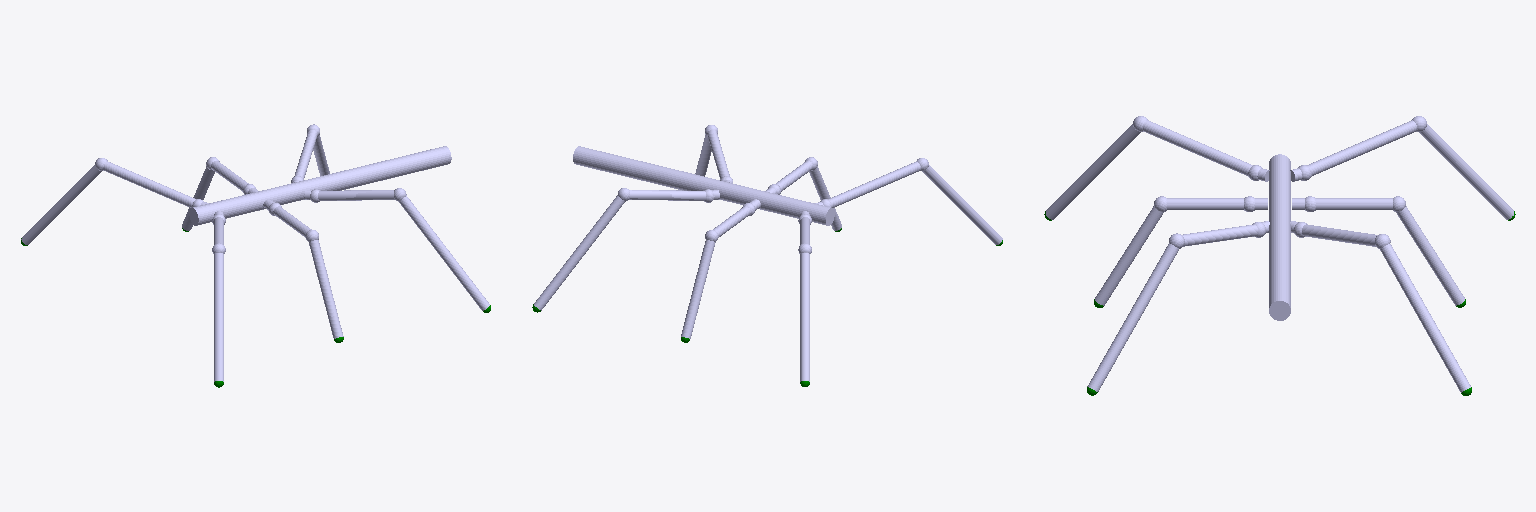
--- Render facts (derived) ---
Views: 3 orthographic renders of the robot side by side, from view 1: azimuth 30°, elevation 25°; view 2: azimuth 150°, elevation 25°; view 3: azimuth 270°, elevation 25°.
Robot: Stick_insect — 25 links, 24 joints (18 revolute, 6 fixed); root link robot_base; default pose: every joint at zero.
Links seen in each view (by area): view 1: robot_base, TIBIA_L2, TIBIA_L0, FEMUR_R0, TIBIA_R0, TIBIA_L1, FEMUR_L2, FEMUR_R2, FEMUR_L1; view 2: robot_base, TIBIA_R2, TIBIA_R0, FEMUR_L0, TIBIA_L0, TIBIA_R1, FEMUR_R2, FEMUR_L2, FEMUR_R1; view 3: robot_base, TIBIA_L2, TIBIA_R2, FEMUR_R0, FEMUR_L0, TIBIA_L0, TIBIA_R0, TIBIA_R1, TIBIA_L1, FEMUR_R1, FEMUR_L1, FEMUR_L2 (+1 smaller).
Link boxes in pixels (x1,y1,x2,y2): robot_base: (189,146,451,225); TIBIA_L2: (399,195,489,310); TIBIA_L0: (214,253,223,381); FEMUR_R0: (95,158,195,207); TIBIA_R0: (21,165,101,244); TIBIA_L1: (309,240,343,338); FEMUR_L2: (318,188,406,201); FEMUR_R2: (294,124,319,178); FEMUR_L1: (273,206,318,241); robot_base: (573,146,834,225); TIBIA_R2: (534,195,625,310); TIBIA_R0: (800,253,809,381); FEMUR_L0: (828,158,928,207); TIBIA_L0: (922,165,1002,244); TIBIA_R1: (681,240,715,338); FEMUR_R2: (618,188,705,200); FEMUR_L2: (705,125,729,179); FEMUR_R1: (705,206,750,241); robot_base: (1269,154,1290,320); TIBIA_L2: (1087,243,1178,391); TIBIA_R2: (1380,244,1470,392); FEMUR_R0: (1307,116,1426,176); FEMUR_L0: (1133,116,1252,176); TIBIA_L0: (1046,124,1140,219); TIBIA_R0: (1419,124,1513,219); TIBIA_R1: (1396,206,1464,305); TIBIA_L1: (1095,206,1163,305); FEMUR_R1: (1316,196,1405,211); FEMUR_L1: (1154,196,1243,211); FEMUR_L2: (1169,224,1257,248).
Size in the robot's own frame: 0.5549 by 0.5797 by 0.1841 metres.
Geometry: primitives only (box / cylinder / sphere), no mesh files.

The robot description file, URDF, robot "Stick_insect":
<?xml version="1.0"?>
<robot name="Stick_insect">
    <link name="robot_base">
        <inertial>
            <origin rpy="-1.570796 3.141593 1.570796" xyz="0.000000 0.000000 0.225002" />
            <inertia ixx="1.8013999782172e-06" ixy="0.0" ixz="0.0" iyz="0.0" izz="1.5440571241862e-06" iyy="1.8013999782172e-06" />
            <mass value="0.016333827429407" />
        </inertial>
        <collision name="Stick_insect">
            <origin xyz="0.000000 0.000000 0.225002" rpy="-1.570796 3.141593 1.570796" />
            <geometry>
                <cylinder radius="0.01375" length="0.4265" />
            </geometry>
        </collision>
        <visual name="Stick_insect">
            <origin xyz="0.000000 0.000000 0.225002" rpy="-1.570796 3.141593 1.570796" />
            <geometry>
                <cylinder radius="0.01375" length="0.4265" />
            </geometry>
            <material name="robot_base_material">
                <color rgba="0.850000 0.850000 1.000000 1.0" />
            </material>
        </visual>
    </link>
    <joint name="TR0" type="revolute">
        <axis xyz="0 0 1" />
        <limit lower="-1.7453292608261" upper="0.69813168048859" effort="6000000000.0" velocity="8.7266464233398" />
        <parent link="robot_base" />
        <child link="COXA_R0" />
        <origin xyz="-0.179750 0.014997 0.225000" rpy="-3.141592 3.141593 -0.000000" />
    </joint>
    <link name="COXA_R0">
        <inertial>
            <origin rpy="-1.570774 3.141592 -2.617994" xyz="0.004237 -0.007339 -0.000000" />
            <inertia ixx="0.001279999986738" ixy="0.0" ixz="0.0" iyz="0.0" izz="0.00063999999336898" iyy="0.001279999986738" />
            <mass value="0.10000000149012" />
        </inertial>
        <collision name="COXA_R0">
            <origin xyz="0.004237 -0.007339 -0.000000" rpy="-1.570774 3.141592 -2.617994" />
            <geometry>
                <cylinder radius="0.0075000002980232" length="0.016950000077486" />
            </geometry>
        </collision>
        <visual name="COXA_R0">
            <origin xyz="0.004237 -0.007339 -0.000000" rpy="-1.570774 3.141592 -2.617994" />
            <geometry>
                <cylinder radius="0.0075000002980232" length="0.016950000077486" />
            </geometry>
            <material name="COXA_R0_material">
                <color rgba="0.850000 0.850000 1.000000 1.0" />
            </material>
        </visual>
        <visual name="CR0_BALL">
            <origin xyz="0.008475 -0.014679 -0.000001" rpy="-3.137573 3.034904 -3.137764" />
            <geometry>
                <sphere radius="0.010000000707805" />
            </geometry>
            <material name="CR0_BALL_material">
                <color rgba="0.850000 0.850000 1.000000 1.0" />
            </material>
        </visual>
    </link>
    <joint name="CR0" type="revolute">
        <axis xyz="0 0 1" />
        <limit lower="-1.3962633907795" upper="1.0471975505352" effort="-6000000000.0" velocity="8.7266464233398" />
        <parent link="COXA_R0" />
        <child link="FEMUR_R0" />
        <origin xyz="0.008475 -0.014679 -0.000001" rpy="1.311125 4.712385 -0.787527" />
    </joint>
    <link name="FEMUR_R0">
        <inertial>
            <origin rpy="-1.745329 1.570796 0.000000" xyz="0.014378 -0.081542 -0.000001" />
            <inertia ixx="0.0037452799804595" ixy="0.0" ixz="0.0" iyz="0.0" izz="0.0018726399902298" iyy="0.0037452799804595" />
            <mass value="0.2926000058651" />
        </inertial>
        <collision name="FEMUR_R0">
            <origin xyz="0.014378 -0.081542 -0.000001" rpy="-1.745329 1.570796 0.000000" />
            <geometry>
                <cylinder radius="0.0075000002980232" length="0.16560000181198" />
            </geometry>
        </collision>
        <visual name="FEMUR_R0">
            <origin xyz="0.014378 -0.081542 -0.000001" rpy="-1.745329 1.570796 0.000000" />
            <geometry>
                <cylinder radius="0.0075000002980232" length="0.16560000181198" />
            </geometry>
            <material name="FEMUR_R0_material">
                <color rgba="0.850000 0.850000 1.000000 1.0" />
            </material>
        </visual>
        <visual name="FR0_BALL">
            <origin xyz="0.028756 -0.163084 -0.000000" rpy="1.390836 2.100417 1.271230" />
            <geometry>
                <sphere radius="0.010000000707805" />
            </geometry>
            <material name="FR0_BALL_material">
                <color rgba="0.850000 0.850000 1.000000 1.0" />
            </material>
        </visual>
    </link>
    <joint name="FR0" type="revolute">
        <axis xyz="0 0 1" />
        <limit lower="-1.2217301130295" upper="0.69813203811646" effort="-6000000000.0" velocity="8.7266464233398" />
        <parent link="FEMUR_R0" />
        <child link="TIBIA_R0" />
        <origin xyz="0.028756 -0.163084 -0.000001" rpy="-3.141593 3.141592 -2.967061" />
    </joint>
    <link name="TIBIA_R0">
        <inertial>
            <origin rpy="-0.523646 1.570796 0.000000" xyz="-0.086705 -0.050063 0.000001" />
            <inertia ixx="0.0045299197006281" ixy="0.0" ixz="0.0" iyz="0.0" izz="0.002264959850314" iyy="0.0045299197006281" />
            <mass value="0.35389998555183" />
        </inertial>
        <collision name="TIBIA_R0">
            <origin xyz="-0.086705 -0.050063 0.000001" rpy="-0.523646 1.570796 0.000000" />
            <geometry>
                <cylinder radius="0.0075000002980232" length="0.20024999976158" />
            </geometry>
        </collision>
        <visual name="TIBIA_R0">
            <origin xyz="-0.086705 -0.050063 0.000001" rpy="-0.523646 1.570796 0.000000" />
            <geometry>
                <cylinder radius="0.0075000002980232" length="0.20024999976158" />
            </geometry>
            <material name="TIBIA_R0_material">
                <color rgba="0.850000 0.850000 1.000000 1.0" />
            </material>
        </visual>
    </link>
    <joint name="R0_fs" type="fixed">
        <axis xyz="0 0 1" />
        <parent link="TIBIA_R0" />
        <child link="FOOT_R0" />
        <origin xyz="-0.173409 -0.100127 0.000001" rpy="2.617947 1.570796 0.000000" />
    </joint>
    <link name="FOOT_R0">
        <inertial>
            <origin rpy="-0.784453 3.219649 0.072881" xyz="0.000000 0.000000 0.000000" />
            <inertia ixx="0.00036000003456138" ixy="0.0" ixz="0.0" iyz="0.0" izz="0.00036000003456138" iyy="0.00036000003456138" />
            <mass value="1.0" />
        </inertial>
        <collision name="FOOT_R0">
            <origin xyz="0.000000 0.000000 0.000000" rpy="-0.784453 3.219649 0.072881" />
            <geometry>
                <sphere radius="0.0075000002980232" />
            </geometry>
        </collision>
        <visual name="FOOT_R0">
            <origin xyz="0.000000 0.000000 0.000000" rpy="-0.784453 3.219649 0.072881" />
            <geometry>
                <sphere radius="0.0075000002980232" />
            </geometry>
            <material name="FOOT_R0_material">
                <color rgba="0.000000 0.570000 0.000000 1.0" />
            </material>
        </visual>
    </link>
    <joint name="TL0" type="revolute">
        <axis xyz="0 0 1" />
        <limit lower="-1.7453292608261" upper="0.69813168048859" effort="6000000000.0" velocity="8.7266464233398" />
        <parent link="robot_base" />
        <child link="COXA_L0" />
        <origin xyz="-0.179750 -0.015004 0.225000" rpy="0.000000 3.141938 -0.000000" />
    </joint>
    <link name="COXA_L0">
        <inertial>
            <origin rpy="-1.570796 3.141593 0.523599" xyz="0.004238 -0.007340 0.000000" />
            <inertia ixx="0.001279999986738" ixy="0.0" ixz="0.0" iyz="0.0" izz="0.00063999999336898" iyy="0.001279999986738" />
            <mass value="0.10000000149012" />
        </inertial>
        <collision name="COXA_L0">
            <origin xyz="0.004238 -0.007340 0.000000" rpy="-1.570796 3.141593 0.523599" />
            <geometry>
                <cylinder radius="0.0075000002980232" length="0.016950000077486" />
            </geometry>
        </collision>
        <visual name="COXA_L0">
            <origin xyz="0.004238 -0.007340 0.000000" rpy="-1.570796 3.141593 0.523599" />
            <geometry>
                <cylinder radius="0.0075000002980232" length="0.016950000077486" />
            </geometry>
            <material name="COXA_L0_material">
                <color rgba="0.850000 0.850000 1.000000 1.0" />
            </material>
        </visual>
        <visual name="CL0_BALL">
            <origin xyz="0.008475 -0.014680 0.000000" rpy="0.003719 3.161360 3.137786" />
            <geometry>
                <sphere radius="0.010000000707805" />
            </geometry>
            <material name="CL0_BALL_material">
                <color rgba="0.850000 0.850000 1.000000 1.0" />
            </material>
        </visual>
    </link>
    <joint name="CL0" type="revolute">
        <axis xyz="0 0 1" />
        <limit lower="-1.3962633907795" upper="1.0471975505352" effort="-6000000000.0" velocity="8.7266464233398" />
        <parent link="COXA_L0" />
        <child link="FEMUR_L0" />
        <origin xyz="0.008475 -0.014680 0.000000" rpy="1.518465 4.712363 2.146726" />
    </joint>
    <link name="FEMUR_L0">
        <inertial>
            <origin rpy="-1.745329 1.570796 0.000000" xyz="-0.014378 0.081542 -0.000000" />
            <inertia ixx="0.0037452799804595" ixy="0.0" ixz="0.0" iyz="0.0" izz="0.0018726399902298" iyy="0.0037452799804595" />
            <mass value="0.2926000058651" />
        </inertial>
        <collision name="FEMUR_L0">
            <origin xyz="-0.014378 0.081542 -0.000000" rpy="-1.745329 1.570796 0.000000" />
            <geometry>
                <cylinder radius="0.0075000002980232" length="0.16560000181198" />
            </geometry>
        </collision>
        <visual name="FEMUR_L0">
            <origin xyz="-0.014378 0.081542 -0.000000" rpy="-1.745329 1.570796 0.000000" />
            <geometry>
                <cylinder radius="0.0075000002980232" length="0.16560000181198" />
            </geometry>
            <material name="FEMUR_L0_material">
                <color rgba="0.850000 0.850000 1.000000 1.0" />
            </material>
        </visual>
        <visual name="FL0_BALL">
            <origin xyz="-0.028761 0.163088 -0.000004" rpy="1.700014 4.003731 -2.084202" />
            <geometry>
                <sphere radius="0.010000000707805" />
            </geometry>
            <material name="FL0_BALL_material">
                <color rgba="0.850000 0.850000 1.000000 1.0" />
            </material>
        </visual>
    </link>
    <joint name="FL0" type="revolute">
        <axis xyz="0 0 1" />
        <limit lower="-1.2217305898666" upper="0.6981315612793" effort="-6000000000.0" velocity="8.7266464233398" />
        <parent link="FEMUR_L0" />
        <child link="TIBIA_L0" />
        <origin xyz="-0.028756 0.163084 -0.000000" rpy="3.141592 3.141594 -2.967061" />
    </joint>
    <link name="TIBIA_L0">
        <inertial>
            <origin rpy="-0.523604 1.570796 0.000000" xyz="0.086712 0.050061 0.000001" />
            <inertia ixx="0.0045299197006281" ixy="0.0" ixz="0.0" iyz="0.0" izz="0.002264959850314" iyy="0.0045299197006281" />
            <mass value="0.35389998555183" />
        </inertial>
        <collision name="TIBIA_L0">
            <origin xyz="0.086712 0.050061 0.000001" rpy="-0.523604 1.570796 0.000000" />
            <geometry>
                <cylinder radius="0.0075000002980232" length="0.20024999976158" />
            </geometry>
        </collision>
        <visual name="TIBIA_L0">
            <origin xyz="0.086712 0.050061 0.000001" rpy="-0.523604 1.570796 0.000000" />
            <geometry>
                <cylinder radius="0.0075000002980232" length="0.20024999976158" />
            </geometry>
            <material name="TIBIA_L0_material">
                <color rgba="0.850000 0.850000 1.000000 1.0" />
            </material>
        </visual>
    </link>
    <joint name="L0_fs" type="fixed">
        <axis xyz="0 0 1" />
        <parent link="TIBIA_L0" />
        <child link="FOOT_L0" />
        <origin xyz="0.173418 0.100121 0.000001" rpy="-0.523604 1.570796 0.000000" />
    </joint>
    <link name="FOOT_L0">
        <inertial>
            <origin rpy="3.141593 3.141593 -3.141593" xyz="0.000000 0.000000 0.000000" />
            <inertia ixx="0.0014400001382455" ixy="0.0" ixz="0.0" iyz="0.0" izz="0.0014400001382455" iyy="0.0014400001382455" />
            <mass value="1.0" />
        </inertial>
        <collision name="FOOT_L0">
            <origin xyz="0.000000 0.000000 0.000000" rpy="3.141593 3.141593 -3.141593" />
            <geometry>
                <sphere radius="0.0075000002980232" />
            </geometry>
        </collision>
        <visual name="FOOT_L0">
            <origin xyz="0.000000 0.000000 0.000000" rpy="3.141593 3.141593 -3.141593" />
            <geometry>
                <sphere radius="0.0075000002980232" />
            </geometry>
            <material name="FOOT_L0_material">
                <color rgba="0.000000 0.570000 0.000000 1.0" />
            </material>
        </visual>
    </link>
    <joint name="TR1" type="revolute">
        <axis xyz="0 0 1" />
        <limit lower="-1.2217304706573" upper="1.2217304706573" effort="6000000000.0" velocity="8.7266464233398" />
        <parent link="robot_base" />
        <child link="COXA_R1" />
        <origin xyz="-0.097250 0.014998 0.225000" rpy="-3.141592 3.141593 -0.000000" />
    </joint>
    <link name="COXA_R1">
        <inertial>
            <origin rpy="-1.570777 3.141593 -3.141592" xyz="0.000000 -0.011150 0.000000" />
            <inertia ixx="0.001279999986738" ixy="0.0" ixz="0.0" iyz="0.0" izz="0.00063999999336898" iyy="0.001279999986738" />
            <mass value="0.10000000149012" />
        </inertial>
        <collision name="COXA_R1">
            <origin xyz="0.000000 -0.011150 0.000000" rpy="-1.570777 3.141593 -3.141592" />
            <geometry>
                <cylinder radius="0.0075000002980232" length="0.022299999371171" />
            </geometry>
        </collision>
        <visual name="COXA_R1">
            <origin xyz="0.000000 -0.011150 0.000000" rpy="-1.570777 3.141593 -3.141592" />
            <geometry>
                <cylinder radius="0.0075000002980232" length="0.022299999371171" />
            </geometry>
            <material name="COXA_R1_material">
                <color rgba="0.850000 0.850000 1.000000 1.0" />
            </material>
        </visual>
        <visual name="CR1_BALL">
            <origin xyz="-0.000000 -0.022300 -0.000000" rpy="-3.138031 3.122185 -3.137789" />
            <geometry>
                <sphere radius="0.010000000707805" />
            </geometry>
            <material name="CR1_BALL_material">
                <color rgba="0.850000 0.850000 1.000000 1.0" />
            </material>
        </visual>
    </link>
    <joint name="CR1" type="revolute">
        <axis xyz="0 0 1" />
        <limit lower="-1.2217304706573" upper="1.2217304706573" effort="-6000000000.0" velocity="8.7266464233398" />
        <parent link="COXA_R1" />
        <child link="FEMUR_R1" />
        <origin xyz="0.000000 -0.022300 -0.000000" rpy="1.385241 4.712382 -1.385241" />
    </joint>
    <link name="FEMUR_R1">
        <inertial>
            <origin rpy="-1.570798 1.570796 0.000000" xyz="0.000000 -0.053926 0.000000" />
            <inertia ixx="0.0024396798471209" ixy="0.0" ixz="0.0" iyz="0.0" izz="0.0012198399235605" iyy="0.0024396798471209" />
            <mass value="0.19059999287128" />
        </inertial>
        <collision name="FEMUR_R1">
            <origin xyz="0.000000 -0.053926 0.000000" rpy="-1.570798 1.570796 0.000000" />
            <geometry>
                <cylinder radius="0.0075000002980232" length="0.10785000026226" />
            </geometry>
        </collision>
        <visual name="FEMUR_R1">
            <origin xyz="0.000000 -0.053926 0.000000" rpy="-1.570798 1.570796 0.000000" />
            <geometry>
                <cylinder radius="0.0075000002980232" length="0.10785000026226" />
            </geometry>
            <material name="FEMUR_R1_material">
                <color rgba="0.850000 0.850000 1.000000 1.0" />
            </material>
        </visual>
        <visual name="FR1_BALL">
            <origin xyz="-0.000000 -0.107850 0.000000" rpy="-0.189982 1.590574 -0.455410" />
            <geometry>
                <sphere radius="0.010000000707805" />
            </geometry>
            <material name="FR1_BALL_material">
                <color rgba="0.850000 0.850000 1.000000 1.0" />
            </material>
        </visual>
    </link>
    <joint name="FR1" type="revolute">
        <axis xyz="0 0 1" />
        <limit lower="-1.396263718605" upper="1.0471972227097" effort="-6000000000.0" velocity="8.7266464233398" />
        <parent link="FEMUR_R1" />
        <child link="TIBIA_R1" />
        <origin xyz="0.000000 -0.107851 0.000000" rpy="-3.141593 3.141593 -3.141592" />
    </joint>
    <link name="TIBIA_R1">
        <inertial>
            <origin rpy="-0.523552 1.570796 0.000000" xyz="-0.066232 -0.038234 -0.000000" />
            <inertia ixx="0.0034598399241938" ixy="0.0" ixz="0.0" iyz="0.0" izz="0.0017299199620969" iyy="0.0034598399241938" />
            <mass value="0.27030000090599" />
        </inertial>
        <collision name="TIBIA_R1">
            <origin xyz="-0.066232 -0.038234 -0.000000" rpy="-0.523552 1.570796 0.000000" />
            <geometry>
                <cylinder radius="0.0075000002980232" length="0.15295000374317" />
            </geometry>
        </collision>
        <visual name="TIBIA_R1">
            <origin xyz="-0.066232 -0.038234 -0.000000" rpy="-0.523552 1.570796 0.000000" />
            <geometry>
                <cylinder radius="0.0075000002980232" length="0.15295000374317" />
            </geometry>
            <material name="TIBIA_R1_material">
                <color rgba="0.850000 0.850000 1.000000 1.0" />
            </material>
        </visual>
    </link>
    <joint name="R1_fs" type="fixed">
        <axis xyz="0 0 1" />
        <parent link="TIBIA_R1" />
        <child link="FOOT_R1" />
        <origin xyz="-0.132463 -0.076469 -0.000000" rpy="2.618040 1.570796 0.000000" />
    </joint>
    <link name="FOOT_R1">
        <inertial>
            <origin rpy="-3.141593 3.141593 3.141593" xyz="-0.000001 0.000000 -0.000000" />
            <inertia ixx="0.00036000003456138" ixy="0.0" ixz="0.0" iyz="0.0" izz="0.00036000003456138" iyy="0.00036000003456138" />
            <mass value="1.0" />
        </inertial>
        <collision name="FOOT_R1">
            <origin xyz="-0.000001 0.000000 -0.000000" rpy="-3.141593 3.141593 3.141593" />
            <geometry>
                <sphere radius="0.0075000002980232" />
            </geometry>
        </collision>
        <visual name="FOOT_R1">
            <origin xyz="-0.000001 0.000000 -0.000000" rpy="-3.141593 3.141593 3.141593" />
            <geometry>
                <sphere radius="0.0075000002980232" />
            </geometry>
            <material name="FOOT_R1_material">
                <color rgba="0.000000 0.570000 0.000000 1.0" />
            </material>
        </visual>
    </link>
    <joint name="TL1" type="revolute">
        <axis xyz="0 0 1" />
        <limit lower="-1.2217304706573" upper="1.2217304706573" effort="6000000000.0" velocity="8.7266464233398" />
        <parent link="robot_base" />
        <child link="COXA_L1" />
        <origin xyz="-0.097249 -0.015002 0.225000" rpy="-0.000001 3.141592 3.141593" />
    </joint>
    <link name="COXA_L1">
        <inertial>
            <origin rpy="-1.570796 3.141593 -3.141593" xyz="-0.000000 0.011150 -0.000000" />
            <inertia ixx="0.001279999986738" ixy="0.0" ixz="0.0" iyz="0.0" izz="0.00063999999336898" iyy="0.001279999986738" />
            <mass value="0.10000000149012" />
        </inertial>
        <collision name="COXA_L1">
            <origin xyz="-0.000000 0.011150 -0.000000" rpy="-1.570796 3.141593 -3.141593" />
            <geometry>
                <cylinder radius="0.0075000002980232" length="0.022299999371171" />
            </geometry>
        </collision>
        <visual name="COXA_L1">
            <origin xyz="-0.000000 0.011150 -0.000000" rpy="-1.570796 3.141593 -3.141593" />
            <geometry>
                <cylinder radius="0.0075000002980232" length="0.022299999371171" />
            </geometry>
            <material name="COXA_L1_material">
                <color rgba="0.850000 0.850000 1.000000 1.0" />
            </material>
        </visual>
        <visual name="CL1_BALL">
            <origin xyz="0.000000 0.022300 0.000000" rpy="0.003691 3.161000 -0.003806" />
            <geometry>
                <sphere radius="0.010000000707805" />
            </geometry>
            <material name="CL1_BALL_material">
                <color rgba="0.850000 0.850000 1.000000 1.0" />
            </material>
        </visual>
    </link>
    <joint name="CL1" type="revolute">
        <axis xyz="0 0 1" />
        <limit lower="-1.2217304706573" upper="1.2217304706573" effort="-6000000000.0" velocity="8.7266464233398" />
        <parent link="COXA_L1" />
        <child link="FEMUR_L1" />
        <origin xyz="-0.000000 0.022300 -0.000000" rpy="1.521490 4.712363 -1.521491" />
    </joint>
    <link name="FEMUR_L1">
        <inertial>
            <origin rpy="-1.570798 1.570796 0.000000" xyz="0.000000 0.053925 0.000000" />
            <inertia ixx="0.0024396798471209" ixy="0.0" ixz="0.0" iyz="0.0" izz="0.0012198399235605" iyy="0.0024396798471209" />
            <mass value="0.19059999287128" />
        </inertial>
        <collision name="FEMUR_L1">
            <origin xyz="0.000000 0.053925 0.000000" rpy="-1.570798 1.570796 0.000000" />
            <geometry>
                <cylinder radius="0.0075000002980232" length="0.10785000026226" />
            </geometry>
        </collision>
        <visual name="FEMUR_L1">
            <origin xyz="0.000000 0.053925 0.000000" rpy="-1.570798 1.570796 0.000000" />
            <geometry>
                <cylinder radius="0.0075000002980232" length="0.10785000026226" />
            </geometry>
            <material name="FEMUR_L1_material">
                <color rgba="0.850000 0.850000 1.000000 1.0" />
            </material>
        </visual>
        <visual name="FL1_BALL">
            <origin xyz="-0.000000 0.107849 0.000000" rpy="2.951658 4.692611 3.073358" />
            <geometry>
                <sphere radius="0.010000000707805" />
            </geometry>
            <material name="FL1_BALL_material">
                <color rgba="0.850000 0.850000 1.000000 1.0" />
            </material>
        </visual>
    </link>
    <joint name="FL1" type="revolute">
        <axis xyz="0 0 1" />
        <limit lower="-1.3962638378143" upper="1.0471971035004" effort="-6000000000.0" velocity="1.7453292608261" />
        <parent link="FEMUR_L1" />
        <child link="TIBIA_L1" />
        <origin xyz="0.000000 0.107850 0.000000" rpy="-3.141593 3.141593 -3.141592" />
    </joint>
    <link name="TIBIA_L1">
        <inertial>
            <origin rpy="-1.797575 1.570798 -1.274016" xyz="0.066231 0.038233 -0.000000" />
            <inertia ixx="0.0034598399241938" ixy="0.0" ixz="0.0" iyz="0.0" izz="0.0017299199620969" iyy="0.0034598399241938" />
            <mass value="0.27030000090599" />
        </inertial>
        <collision name="TIBIA_L1">
            <origin xyz="0.066231 0.038233 -0.000000" rpy="-1.797575 1.570798 -1.274016" />
            <geometry>
                <cylinder radius="0.0075000002980232" length="0.15295000374317" />
            </geometry>
        </collision>
        <visual name="TIBIA_L1">
            <origin xyz="0.066231 0.038233 -0.000000" rpy="-1.797575 1.570798 -1.274016" />
            <geometry>
                <cylinder radius="0.0075000002980232" length="0.15295000374317" />
            </geometry>
            <material name="TIBIA_L1_material">
                <color rgba="0.850000 0.850000 1.000000 1.0" />
            </material>
        </visual>
    </link>
    <joint name="L1_fs" type="fixed">
        <axis xyz="0 0 1" />
        <parent link="TIBIA_L1" />
        <child link="FOOT_L1" />
        <origin xyz="0.132462 0.076468 0.000000" rpy="-1.797575 1.570798 -1.274016" />
    </joint>
    <link name="FOOT_L1">
        <inertial>
            <origin rpy="-3.141593 3.141593 3.141593" xyz="-0.000000 0.000000 0.000500" />
            <inertia ixx="0.00036000003456138" ixy="0.0" ixz="0.0" iyz="0.0" izz="0.00036000003456138" iyy="0.00036000003456138" />
            <mass value="1.0" />
        </inertial>
        <collision name="FOOT_L1">
            <origin xyz="-0.000000 0.000000 0.000500" rpy="-3.141593 3.141593 3.141593" />
            <geometry>
                <sphere radius="0.0075000002980232" />
            </geometry>
        </collision>
        <visual name="FOOT_L1">
            <origin xyz="-0.000000 0.000000 0.000500" rpy="-3.141593 3.141593 3.141593" />
            <geometry>
                <sphere radius="0.0075000002980232" />
            </geometry>
            <material name="FOOT_L1_material">
                <color rgba="0.000000 0.570000 0.000000 1.0" />
            </material>
        </visual>
    </link>
    <joint name="TR2" type="revolute">
        <axis xyz="0 0 1" />
        <limit lower="-0.52359879016876" upper="1.9198621511459" effort="6000000000.0" velocity="8.7266464233398" />
        <parent link="robot_base" />
        <child link="COXA_R2" />
        <origin xyz="-0.032748 0.014996 0.224999" rpy="-3.141592 3.141593 -0.003818" />
    </joint>
    <link name="COXA_R2">
        <inertial>
            <origin rpy="-1.570777 3.141593 2.443461" xyz="-0.004934 -0.005879 0.000000" />
            <inertia ixx="0.001279999986738" ixy="0.0" ixz="0.0" iyz="0.0" izz="0.00063999999336898" iyy="0.001279999986738" />
            <mass value="0.10000000149012" />
        </inertial>
        <collision name="COXA_R2">
            <origin xyz="-0.004934 -0.005879 0.000000" rpy="-1.570777 3.141593 2.443461" />
            <geometry>
                <cylinder radius="0.0075000002980232" length="0.015350000932813" />
            </geometry>
        </collision>
        <visual name="COXA_R2">
            <origin xyz="-0.004934 -0.005879 0.000000" rpy="-1.570777 3.141593 2.443461" />
            <geometry>
                <cylinder radius="0.0075000002980232" length="0.015350000932813" />
            </geometry>
            <material name="COXA_R2_material">
                <color rgba="0.850000 0.850000 1.000000 1.0" />
            </material>
        </visual>
        <visual name="CR2_BALL">
            <origin xyz="-0.009867 -0.011759 -0.000000" rpy="-3.137933 3.122186 -3.137788" />
            <geometry>
                <sphere radius="0.010000000707805" />
            </geometry>
            <material name="CR2_BALL_material">
                <color rgba="0.850000 0.850000 1.000000 1.0" />
            </material>
        </visual>
    </link>
    <joint name="CR2" type="revolute">
        <axis xyz="0 0 1" />
        <limit lower="-1.3962633907795" upper="1.0471975505352" effort="-6000000000.0" velocity="8.7266464233398" />
        <parent link="COXA_R2" />
        <child link="FEMUR_R2" />
        <origin xyz="-0.009867 -0.011759 -0.000000" rpy="1.364193 4.712382 -2.062325" />
    </joint>
    <link name="FEMUR_R2">
        <inertial>
            <origin rpy="-1.745331 1.570796 0.000000" xyz="0.011487 -0.065145 0.000000" />
            <inertia ixx="0.0029926398474953" ixy="0.0" ixz="0.0" iyz="0.0" izz="0.0014963199237476" iyy="0.0029926398474953" />
            <mass value="0.23379999399185" />
        </inertial>
        <collision name="FEMUR_R2">
            <origin xyz="0.011487 -0.065145 0.000000" rpy="-1.745331 1.570796 0.000000" />
            <geometry>
                <cylinder radius="0.0075000002980232" length="0.1322999894619" />
            </geometry>
        </collision>
        <visual name="FEMUR_R2">
            <origin xyz="0.011487 -0.065145 0.000000" rpy="-1.745331 1.570796 0.000000" />
            <geometry>
                <cylinder radius="0.0075000002980232" length="0.1322999894619" />
            </geometry>
            <material name="FEMUR_R2_material">
                <color rgba="0.850000 0.850000 1.000000 1.0" />
            </material>
        </visual>
        <visual name="FR2_BALL">
            <origin xyz="0.022974 -0.130290 -0.000000" rpy="-1.544189 2.272956 -1.889815" />
            <geometry>
                <sphere radius="0.010000000707805" />
            </geometry>
            <material name="FR2_BALL_material">
                <color rgba="0.850000 0.850000 1.000000 1.0" />
            </material>
        </visual>
    </link>
    <joint name="FR2" type="revolute">
        <axis xyz="0 0 1" />
        <limit lower="-1.3962639570236" upper="1.0471969842911" effort="-6000000000.0" velocity="8.7266464233398" />
        <parent link="FEMUR_R2" />
        <child link="TIBIA_R2" />
        <origin xyz="0.022974 -0.130290 -0.000000" rpy="-3.141592 3.141593 -2.967059" />
    </joint>
    <link name="TIBIA_R2">
        <inertial>
            <origin rpy="-0.523522 1.570796 0.000000" xyz="-0.090893 -0.052468 -0.000000" />
            <inertia ixx="0.0047475199453752" ixy="0.0" ixz="0.0" iyz="0.0" izz="0.0023737599726876" iyy="0.0047475199453752" />
            <mass value="0.37090000510216" />
        </inertial>
        <collision name="TIBIA_R2">
            <origin xyz="-0.090893 -0.052468 -0.000000" rpy="-0.523522 1.570796 0.000000" />
            <geometry>
                <cylinder radius="0.0075000002980232" length="0.20989999175072" />
            </geometry>
        </collision>
        <visual name="TIBIA_R2">
            <origin xyz="-0.090893 -0.052468 -0.000000" rpy="-0.523522 1.570796 0.000000" />
            <geometry>
                <cylinder radius="0.0075000002980232" length="0.20989999175072" />
            </geometry>
            <material name="TIBIA_R2_material">
                <color rgba="0.850000 0.850000 1.000000 1.0" />
            </material>
        </visual>
    </link>
    <joint name="R2_fs" type="fixed">
        <axis xyz="0 0 1" />
        <parent link="TIBIA_R2" />
        <child link="FOOT_R2" />
        <origin xyz="-0.181786 -0.104936 -0.000000" rpy="2.618071 1.570796 0.000000" />
    </joint>
    <link name="FOOT_R2">
        <inertial>
            <origin rpy="3.141593 3.141593 3.141593" xyz="0.000000 -0.000001 -0.000000" />
            <inertia ixx="0.00036000003456138" ixy="0.0" ixz="0.0" iyz="0.0" izz="0.00036000003456138" iyy="0.00036000003456138" />
            <mass value="1.0" />
        </inertial>
        <collision name="FOOT_R2">
            <origin xyz="0.000000 -0.000001 -0.000000" rpy="3.141593 3.141593 3.141593" />
            <geometry>
                <sphere radius="0.0075000002980232" />
            </geometry>
        </collision>
        <visual name="FOOT_R2">
            <origin xyz="0.000000 -0.000001 -0.000000" rpy="3.141593 3.141593 3.141593" />
            <geometry>
                <sphere radius="0.0075000002980232" />
            </geometry>
            <material name="FOOT_R2_material">
                <color rgba="0.000000 0.570000 0.000000 1.0" />
            </material>
        </visual>
    </link>
    <joint name="TL2" type="revolute">
        <axis xyz="0 0 1" />
        <limit lower="-0.52359879016876" upper="1.9198621511459" effort="6000000000.0" velocity="8.7266464233398" />
        <parent link="robot_base" />
        <child link="COXA_L2" />
        <origin xyz="-0.032749 -0.015004 0.225000" rpy="-0.000001 3.141592 3.137775" />
    </joint>
    <link name="COXA_L2">
        <inertial>
            <origin rpy="-1.570765 3.141593 2.443461" xyz="0.004934 0.005879 -0.000000" />
            <inertia ixx="0.001279999986738" ixy="0.0" ixz="0.0" iyz="0.0" izz="0.00063999999336898" iyy="0.001279999986738" />
            <mass value="0.10000000149012" />
        </inertial>
        <collision name="COXA_L2">
            <origin xyz="0.004934 0.005879 -0.000000" rpy="-1.570765 3.141593 2.443461" />
            <geometry>
                <cylinder radius="0.0075000002980232" length="0.015350000932813" />
            </geometry>
        </collision>
        <visual name="COXA_L2">
            <origin xyz="0.004934 0.005879 -0.000000" rpy="-1.570765 3.141593 2.443461" />
            <geometry>
                <cylinder radius="0.0075000002980232" length="0.015350000932813" />
            </geometry>
            <material name="COXA_L2_material">
                <color rgba="0.850000 0.850000 1.000000 1.0" />
            </material>
        </visual>
        <visual name="CL2_BALL">
            <origin xyz="0.009867 0.011759 0.000001" rpy="-1.550972 2.447391 0.897923" />
            <geometry>
                <sphere radius="0.010000000707805" />
            </geometry>
            <material name="CL2_BALL_material">
                <color rgba="0.850000 0.850000 1.000000 1.0" />
            </material>
        </visual>
    </link>
    <joint name="CL2" type="revolute">
        <axis xyz="0 0 1" />
        <limit lower="-1.3962633907795" upper="1.0471975505352" effort="-6000000000.0" velocity="8.7266464233398" />
        <parent link="COXA_L2" />
        <child link="FEMUR_L2" />
        <origin xyz="0.009867 0.011759 0.000000" rpy="-1.426203 4.712383 0.728071" />
    </joint>
    <link name="FEMUR_L2">
        <inertial>
            <origin rpy="-1.745330 1.570796 0.000000" xyz="-0.011487 0.065145 0.000000" />
            <inertia ixx="0.0029926398474953" ixy="0.0" ixz="0.0" iyz="0.0" izz="0.0014963199237476" iyy="0.0029926398474953" />
            <mass value="0.23379999399185" />
        </inertial>
        <collision name="FEMUR_L2">
            <origin xyz="-0.011487 0.065145 0.000000" rpy="-1.745330 1.570796 0.000000" />
            <geometry>
                <cylinder radius="0.0075000002980232" length="0.1322999894619" />
            </geometry>
        </collision>
        <visual name="FEMUR_L2">
            <origin xyz="-0.011487 0.065145 0.000000" rpy="-1.745330 1.570796 0.000000" />
            <geometry>
                <cylinder radius="0.0075000002980232" length="0.1322999894619" />
            </geometry>
            <material name="FEMUR_L2_material">
                <color rgba="0.850000 0.850000 1.000000 1.0" />
            </material>
        </visual>
        <visual name="FL2_BALL">
            <origin xyz="-0.022974 0.130290 0.000000" rpy="-1.590440 4.017836 1.252061" />
            <geometry>
                <sphere radius="0.010000000707805" />
            </geometry>
            <material name="FL2_BALL_material">
                <color rgba="0.850000 0.850000 1.000000 1.0" />
            </material>
        </visual>
    </link>
    <joint name="FL2" type="revolute">
        <axis xyz="0 0 1" />
        <limit lower="-1.3962638378143" upper="1.0471971035004" effort="-6000000000.0" velocity="8.7266464233398" />
        <parent link="FEMUR_L2" />
        <child link="TIBIA_L2" />
        <origin xyz="-0.022974 0.130290 0.000000" rpy="3.141592 3.141593 -2.967060" />
    </joint>
    <link name="TIBIA_L2">
        <inertial>
            <origin rpy="-1.843784 1.570798 -1.320227" xyz="0.090893 0.052469 0.000000" />
            <inertia ixx="0.0047475199453752" ixy="0.0" ixz="0.0" iyz="0.0" izz="0.0023737599726876" iyy="0.0047475199453752" />
            <mass value="0.37090000510216" />
        </inertial>
        <collision name="TIBIA_L2">
            <origin xyz="0.090893 0.052469 0.000000" rpy="-1.843784 1.570798 -1.320227" />
            <geometry>
                <cylinder radius="0.0075000002980232" length="0.20989999175072" />
            </geometry>
        </collision>
        <visual name="TIBIA_L2">
            <origin xyz="0.090893 0.052469 0.000000" rpy="-1.843784 1.570798 -1.320227" />
            <geometry>
                <cylinder radius="0.0075000002980232" length="0.20989999175072" />
            </geometry>
            <material name="TIBIA_L2_material">
                <color rgba="0.850000 0.850000 1.000000 1.0" />
            </material>
        </visual>
    </link>
    <joint name="L2_fs" type="fixed">
        <axis xyz="0 0 1" />
        <parent link="TIBIA_L2" />
        <child link="FOOT_L2" />
        <origin xyz="0.181784 0.104940 0.000000" rpy="-1.843784 1.570798 -1.320227" />
    </joint>
    <link name="FOOT_L2">
        <inertial>
            <origin rpy="-3.141593 3.141593 3.141593" xyz="0.000000 0.000000 -0.000000" />
            <inertia ixx="0.00036000000545755" ixy="0.0" ixz="0.0" iyz="0.0" izz="0.00036000000545755" iyy="0.00036000000545755" />
            <mass value="1.0" />
        </inertial>
        <collision name="FOOT_L2">
            <origin xyz="0.000000 0.000000 -0.000000" rpy="-3.141593 3.141593 3.141593" />
            <geometry>
                <sphere radius="0.0075000002980232" />
            </geometry>
        </collision>
        <visual name="FOOT_L2">
            <origin xyz="0.000000 0.000000 -0.000000" rpy="-3.141593 3.141593 3.141593" />
            <geometry>
                <sphere radius="0.0075000002980232" />
            </geometry>
            <material name="FOOT_L2_material">
                <color rgba="0.000000 0.570000 0.000000 1.0" />
            </material>
        </visual>
    </link>
</robot>
